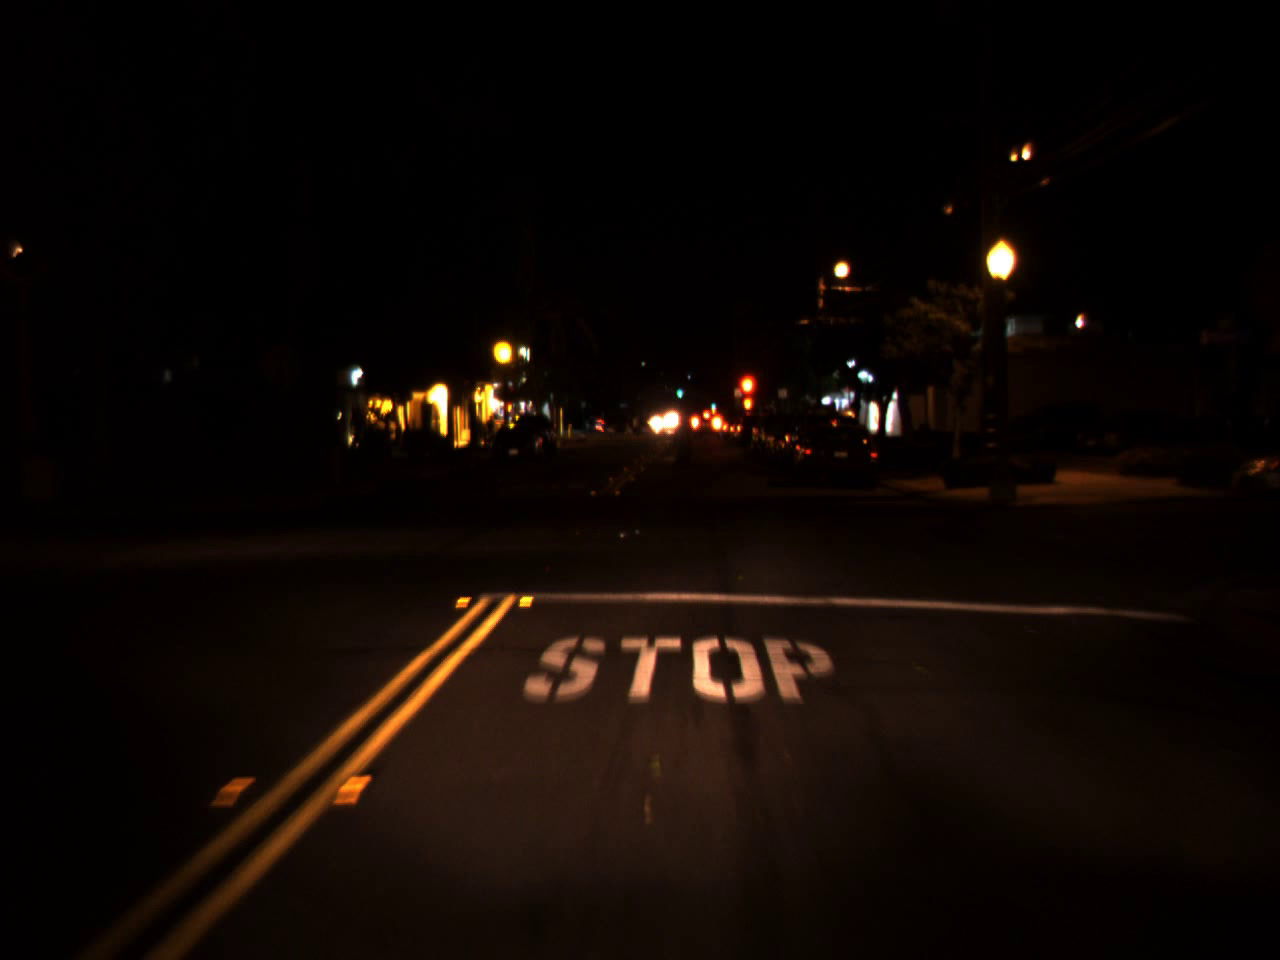go: (675, 379, 684, 400), (709, 398, 716, 410)
stop: (733, 371, 760, 419)
